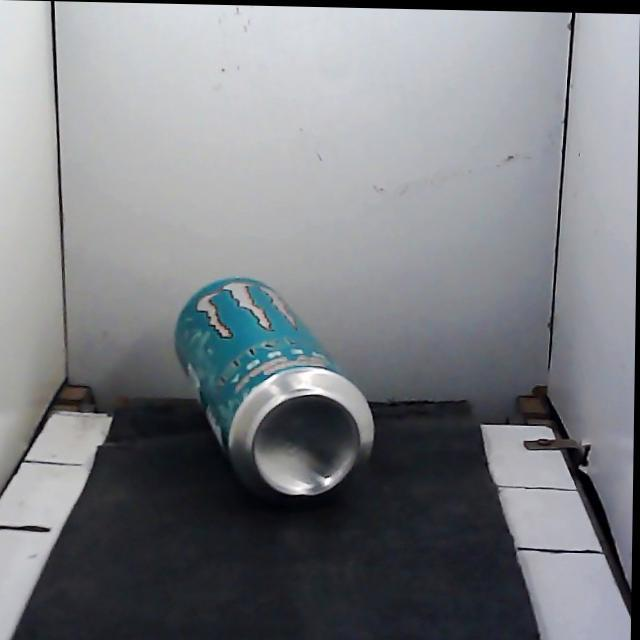metal: (175, 277, 374, 497)
